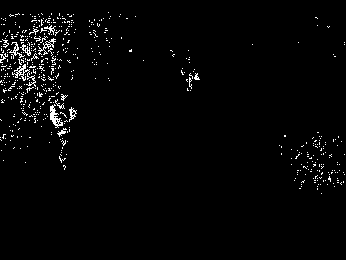person: (48, 94, 77, 171)
